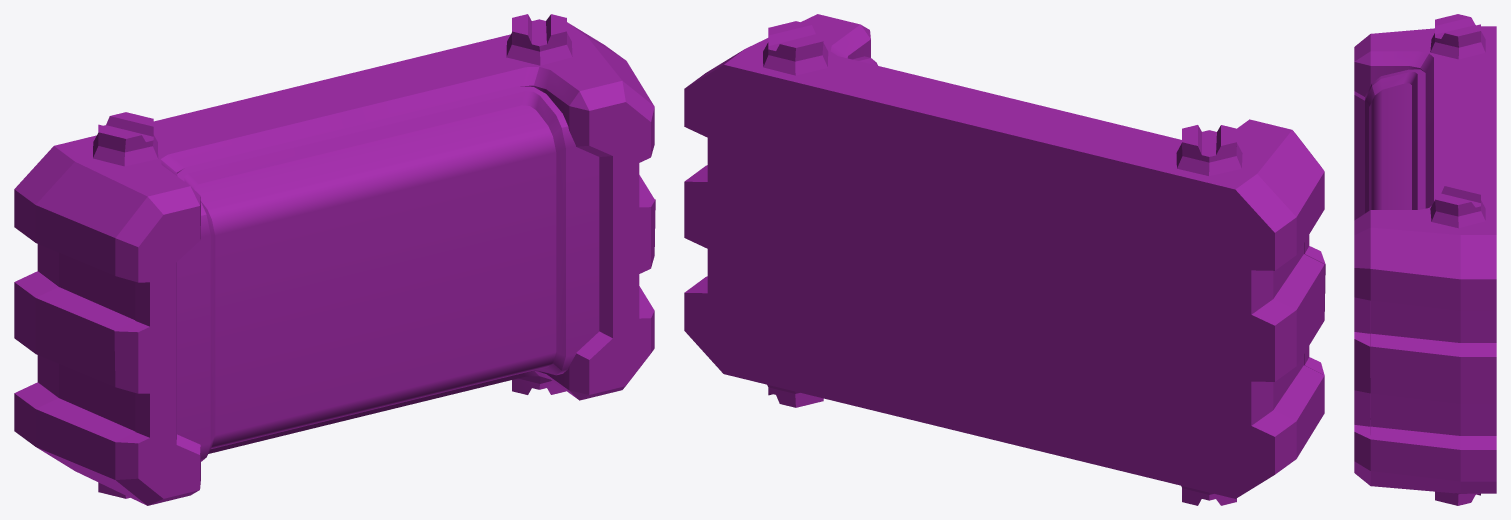
The model's file is obj_warehouse_encryptorsign_pose0.fbx.
3 renders of one model, left to right at view 1: azimuth 30°, elevation 25°; view 2: azimuth 150°, elevation 25°; view 3: azimuth 270°, elevation 25°, orthographic. The views are drawn at different scales.
Parts seen in each view (by area): view 1: obj_warehouse_encryptorsign_pose0; view 2: obj_warehouse_encryptorsign_pose0; view 3: obj_warehouse_encryptorsign_pose0.
Part boxes in pixels (box(x1,y1,x2,y2)): obj_warehouse_encryptorsign_pose0: box(14, 14, 655, 505); obj_warehouse_encryptorsign_pose0: box(684, 14, 1325, 505); obj_warehouse_encryptorsign_pose0: box(1354, 14, 1496, 505).
Size of the model in its own units: 8 by 4.65 by 1.99.
